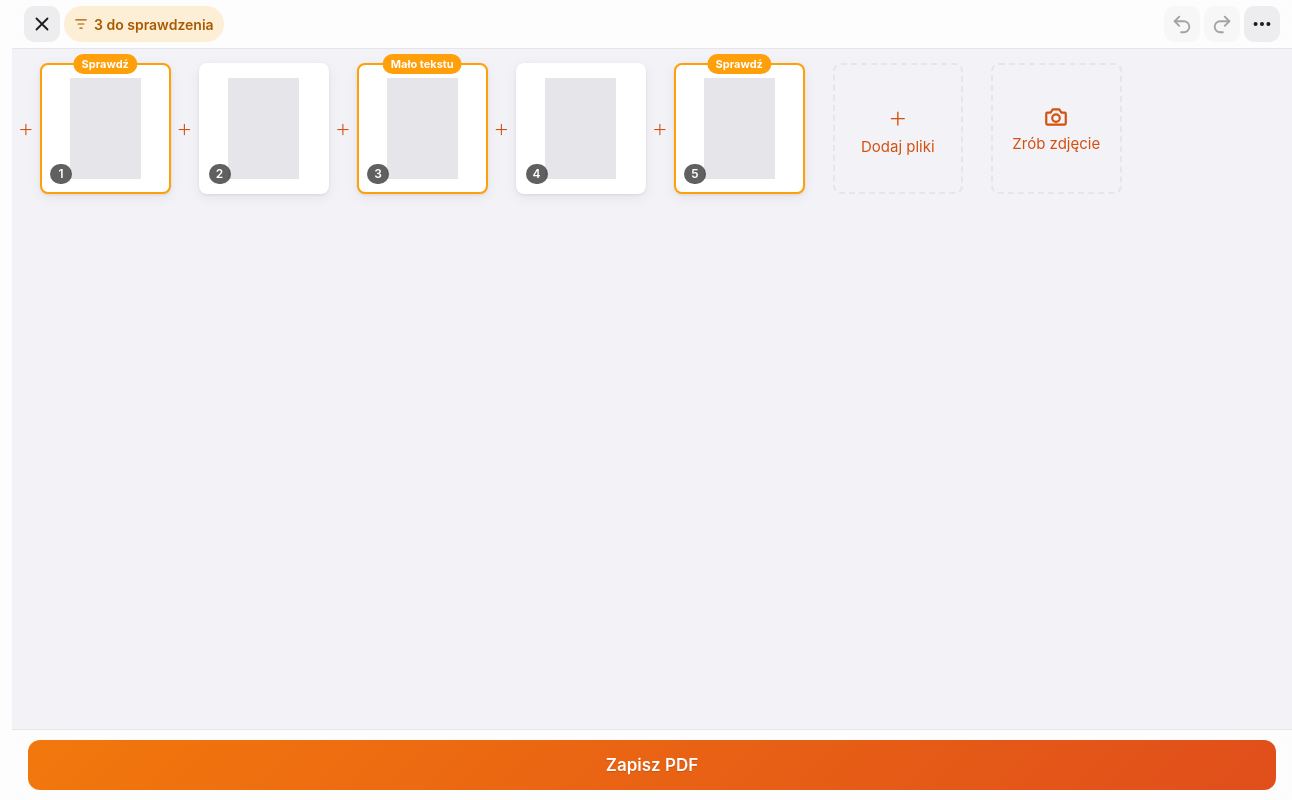
Test case: review grid › tapping a check-orientation page clears its flag from the counter
Step 1. Click the button "1 Sprawdź" → (105, 128), box [40,63,170,194]
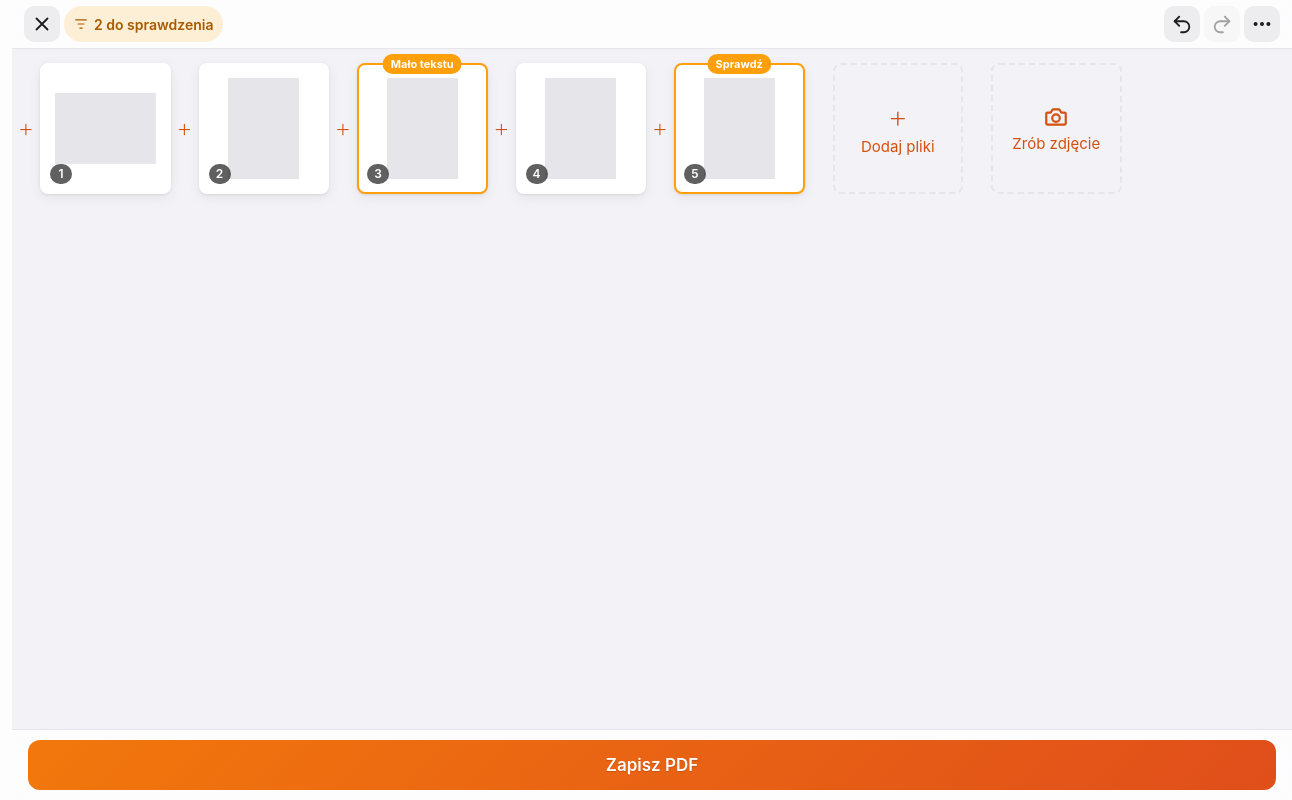
Expected: the text "2 do sprawdzenia" is shown, [94,16,213,32]
